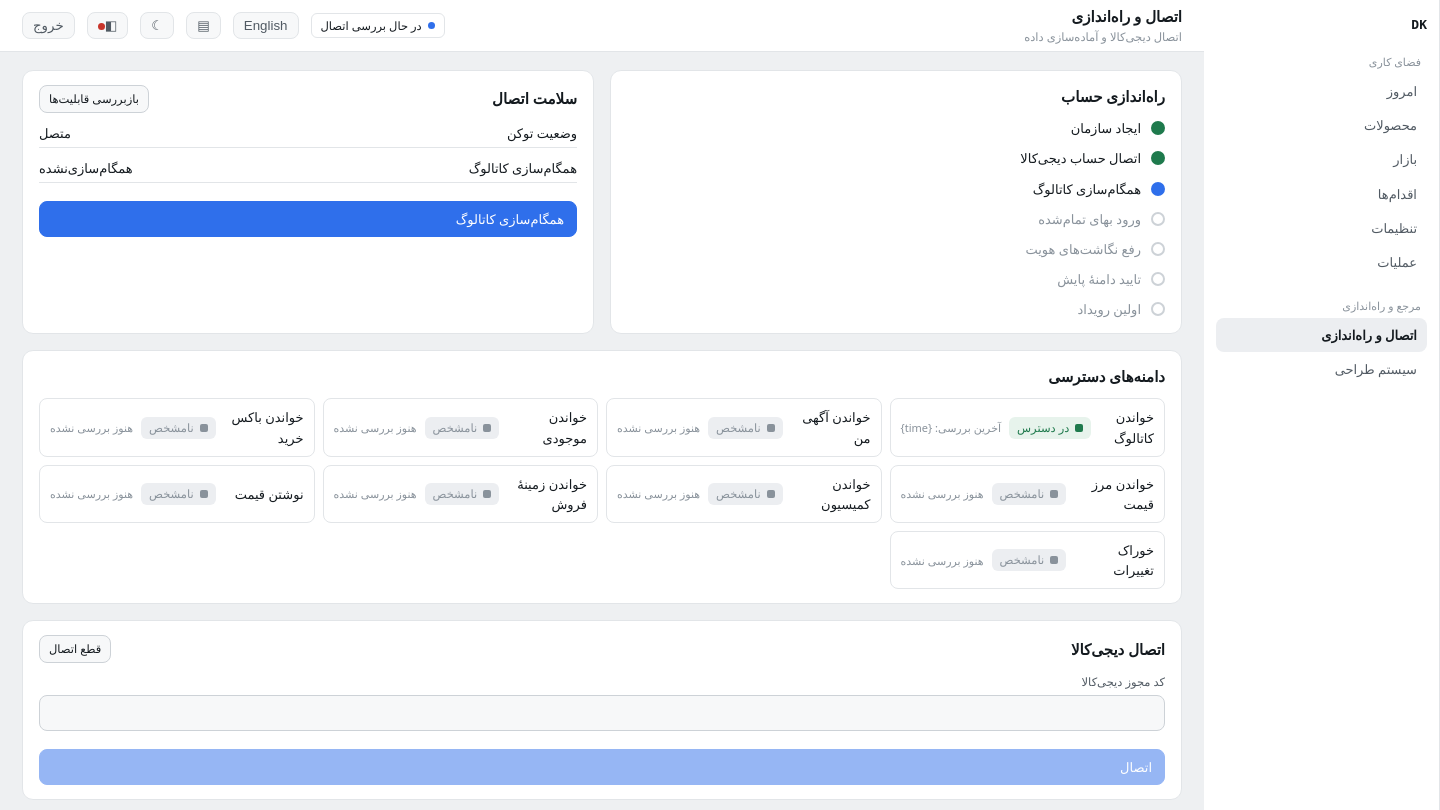
Test: Onboarding / catalog sync (issue #76, ACC-004/ACC-005) › clicking Sync issues EXACTLY ONE idempotent sync request
Click the button with test id "sync-catalog": (510, 219) [39,201,577,237]
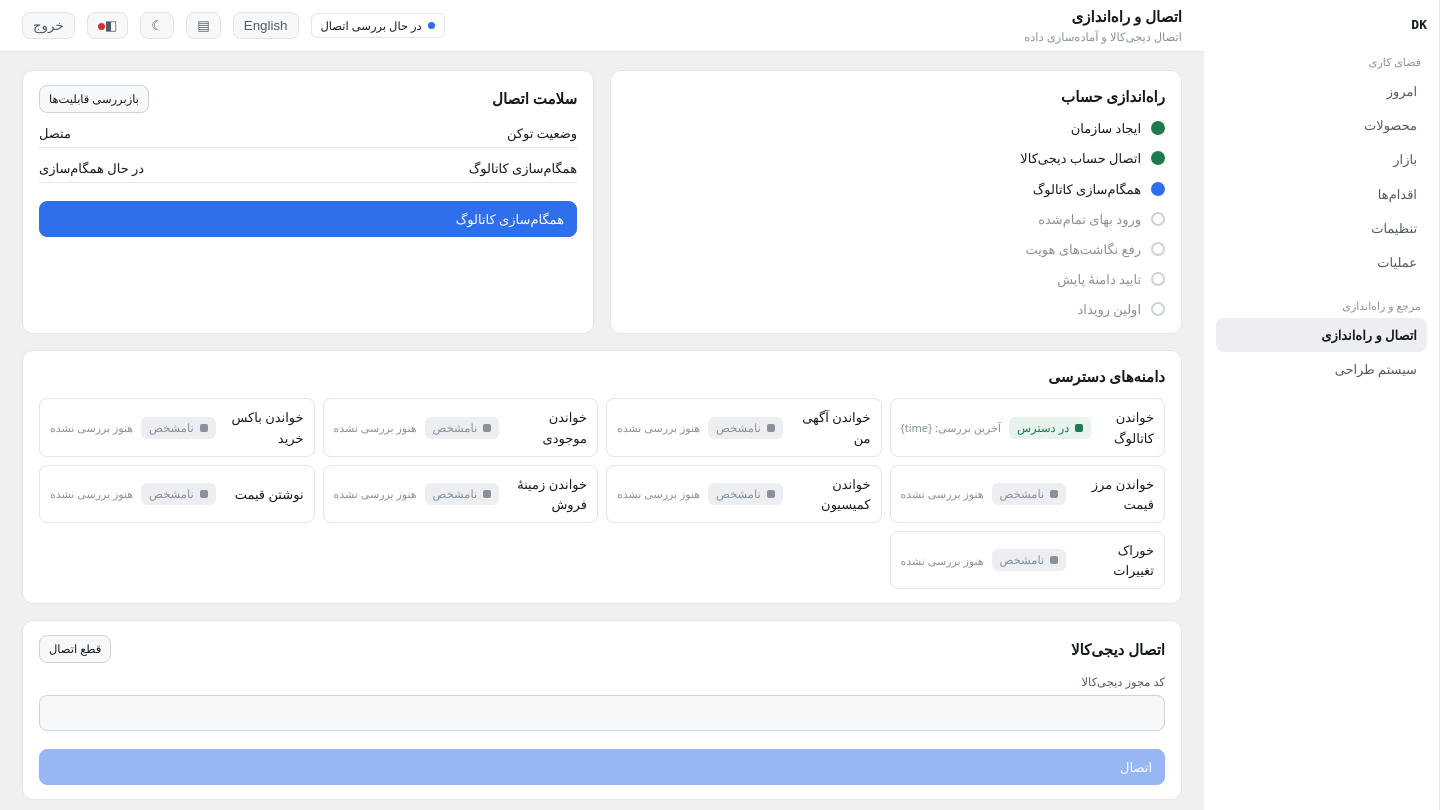
Expected: the text with test id "sync-state" reads "در حال همگام‌سازی", [39,159,144,177]
